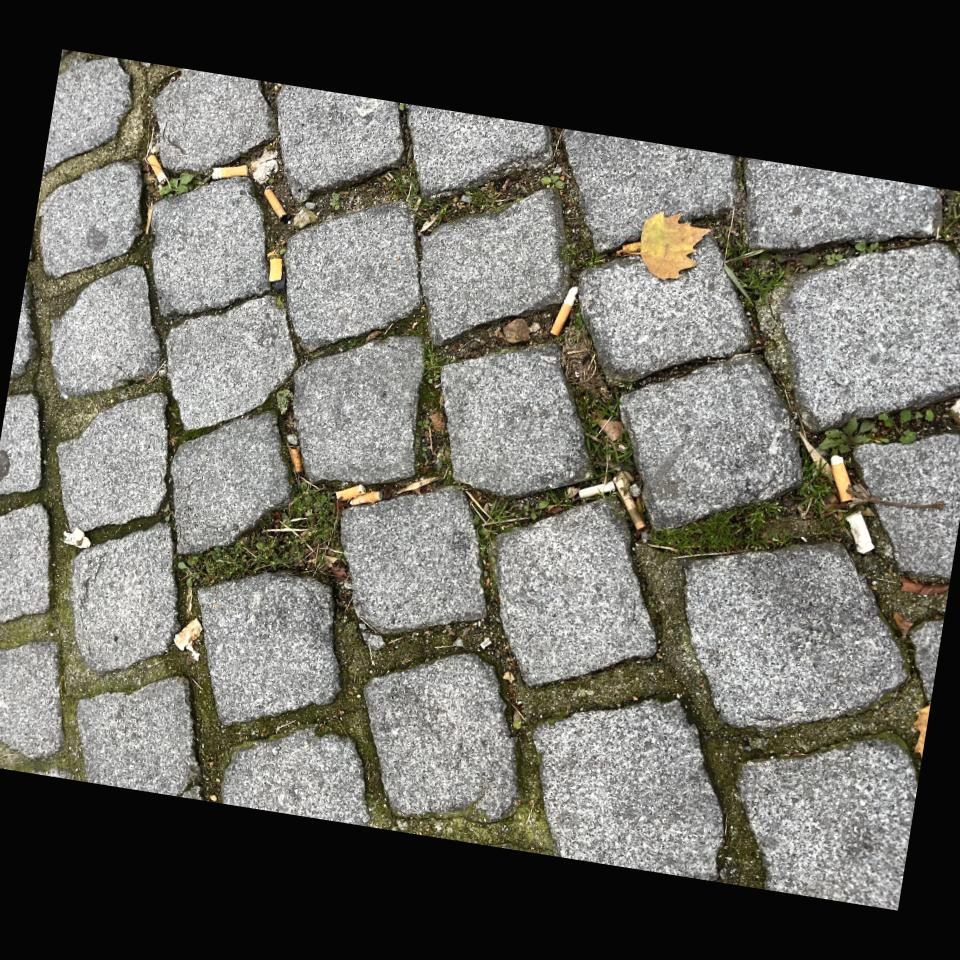weed: (179, 484, 344, 586), (655, 502, 791, 554), (720, 221, 802, 303), (822, 414, 892, 455)
